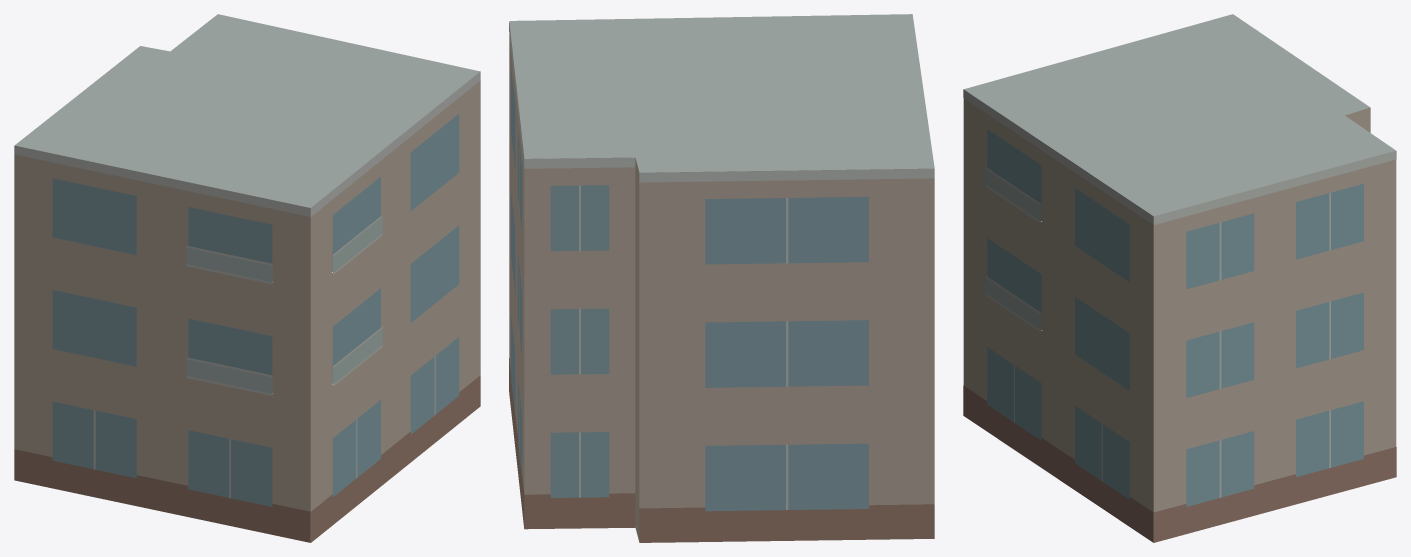
The model's file is survey-upis-32914585.glb.
3 views of the same model, side by side, from view 1: azimuth 30°, elevation 25°; view 2: azimuth 150°, elevation 25°; view 3: azimuth 270°, elevation 25° (orthographic). The views are drawn at different scales.
Visible parts, largest first — view 1: survey-upis-32914585.tmp; view 2: survey-upis-32914585.tmp; view 3: survey-upis-32914585.tmp.
Part boxes in pixels (left/top/right/bottom): survey-upis-32914585.tmp: left=14, top=14, right=480, bottom=542; survey-upis-32914585.tmp: left=509, top=14, right=934, bottom=542; survey-upis-32914585.tmp: left=963, top=14, right=1396, bottom=542.
Size of the model in its own units: 12.18 by 9.15 by 11.01.
